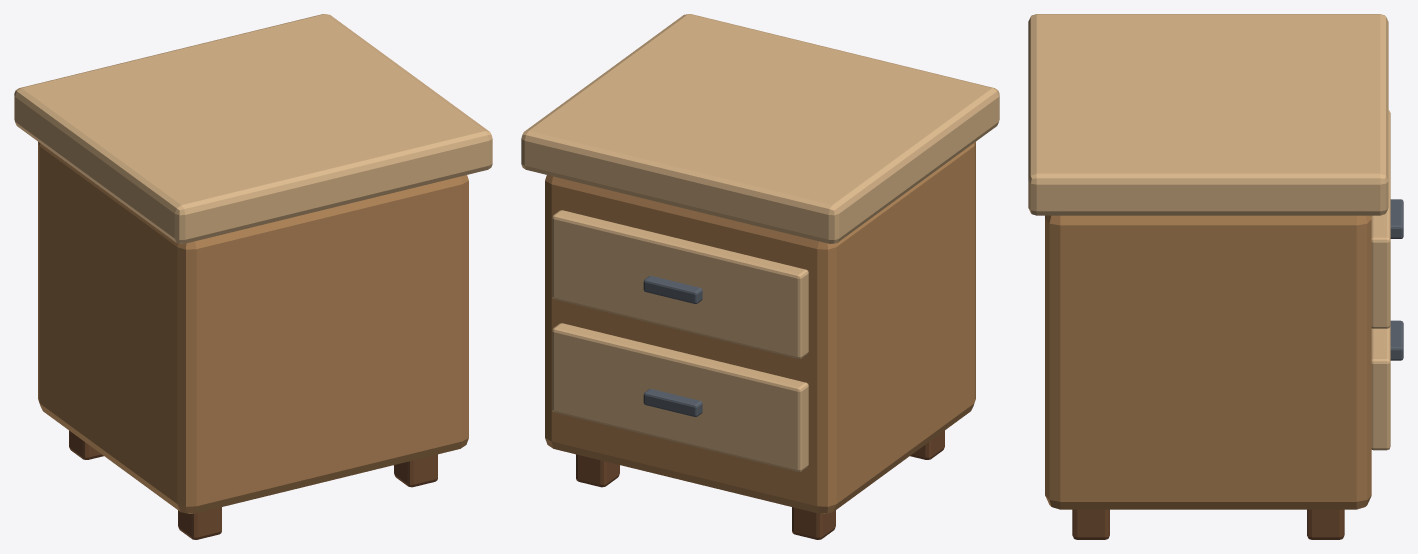
Rendered from bedside_table.glb.
The picture shows the model from 3 angles, left to right: view 1: azimuth 30°, elevation 25°; view 2: azimuth 150°, elevation 25°; view 3: azimuth 270°, elevation 25°; orthographic projection. The views are drawn at different scales.
Visible parts, largest first — view 1: Bedside_Cabinet, Bedside_Top, Bedside_Foot, Bedside_Foot.002; view 2: Bedside_Cabinet, Bedside_Top, Bedside_Drawer_Front.001, Bedside_Drawer_Front, Bedside_Foot.001, Bedside_Foot.003, Bedside_Drawer_Handle, Bedside_Drawer_Handle.001; view 3: Bedside_Cabinet, Bedside_Top, Bedside_Drawer_Front.001, Bedside_Drawer_Front, Bedside_Foot.002, Bedside_Foot.003, Bedside_Drawer_Handle, Bedside_Drawer_Handle.001.
Part boxes in pixels (left/top/right/bottom): Bedside_Cabinet: left=38, top=142, right=468, bottom=513; Bedside_Top: left=14, top=14, right=492, bottom=243; Bedside_Foot: left=178, top=507, right=221, bottom=539; Bedside_Foot.002: left=394, top=454, right=437, bottom=487; Bedside_Cabinet: left=545, top=142, right=975, bottom=513; Bedside_Top: left=521, top=14, right=999, bottom=243; Bedside_Drawer_Front.001: left=552, top=210, right=808, bottom=358; Bedside_Drawer_Front: left=552, top=323, right=808, bottom=471; Bedside_Foot.001: left=792, top=507, right=835, bottom=539; Bedside_Foot.003: left=576, top=454, right=619, bottom=487; Bedside_Drawer_Handle: left=643, top=389, right=702, bottom=416; Bedside_Drawer_Handle.001: left=643, top=276, right=702, bottom=303; Bedside_Cabinet: left=1045, top=215, right=1371, bottom=509; Bedside_Top: left=1028, top=14, right=1388, bottom=215; Bedside_Drawer_Front.001: left=1371, top=110, right=1390, bottom=328; Bedside_Drawer_Front: left=1371, top=326, right=1390, bottom=450; Bedside_Foot.002: left=1072, top=509, right=1109, bottom=539; Bedside_Foot.003: left=1307, top=509, right=1344, bottom=539; Bedside_Drawer_Handle: left=1390, top=320, right=1403, bottom=360; Bedside_Drawer_Handle.001: left=1390, top=199, right=1403, bottom=238.
Size of the model in its own units: 0.47 by 0.505 by 0.448.
